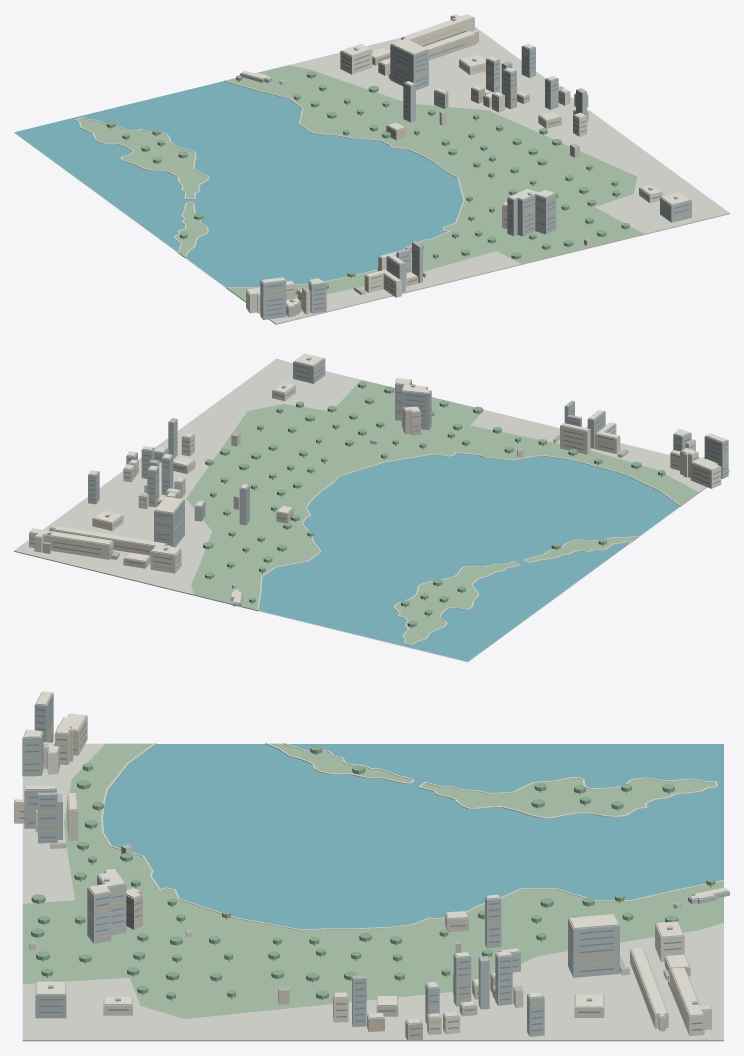
The picture shows the model from 3 angles, top to bottom: view 1: azimuth 30°, elevation 25°; view 2: azimuth 150°, elevation 25°; view 3: azimuth 270°, elevation 25°; orthographic projection. The views are drawn at different scales.
Parts seen in each view (by area): view 1: city; view 2: city; view 3: city.
Part boxes in pixels (x1,y1,x2,y2): city: (14,14,729,324); city: (14,353,729,662); city: (14,691,729,1041).
Bounding box in the file's own units: 512 × 40.95 × 511.
